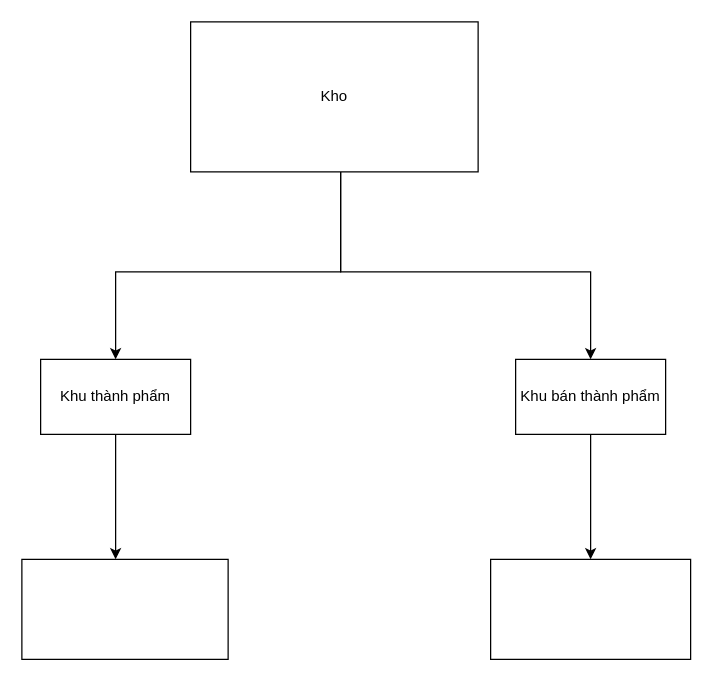
The diagram is 713 pixels wide and 681 high, and some of its shapes have lost their labels. The box of each missing label's shape, as (x1, y1, x2, y2) in pixels:
Bán thành phẩm (động cơ) (Mã QR): (21, 558, 228, 659)
Máy bơm thành phẩm (Mã QR): (489, 558, 691, 659)
